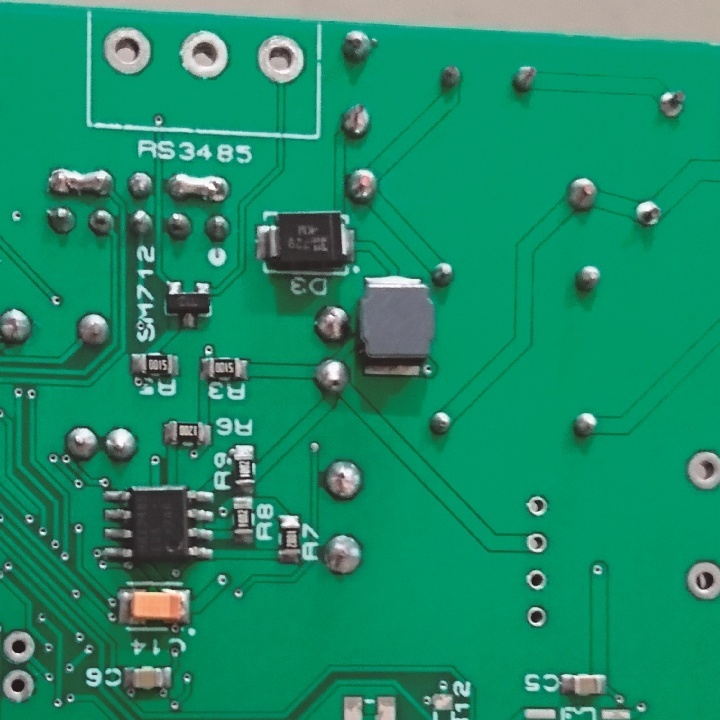F: (254, 29, 309, 90), (176, 29, 230, 86), (101, 24, 153, 79), (681, 446, 720, 492), (682, 556, 720, 603), (1, 668, 41, 707), (1, 627, 39, 666), (523, 603, 548, 629), (527, 492, 550, 520), (524, 565, 547, 593), (524, 530, 548, 556)
P: (165, 168, 233, 205), (47, 165, 113, 198)
